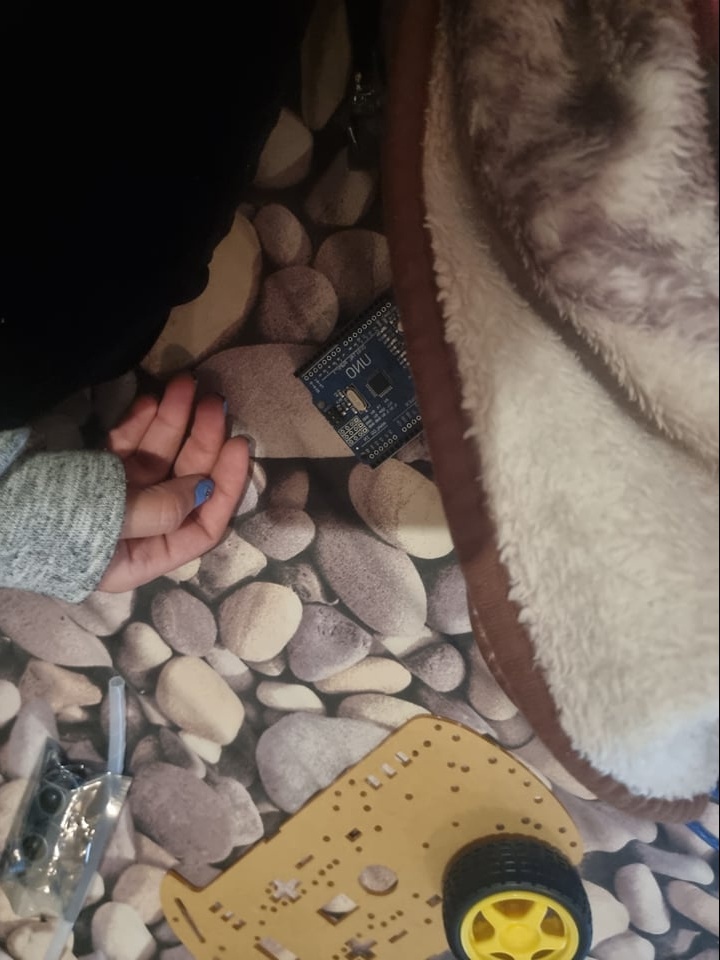SENSOR: (15, 778, 80, 870)
UNO R3: (292, 300, 431, 470)
